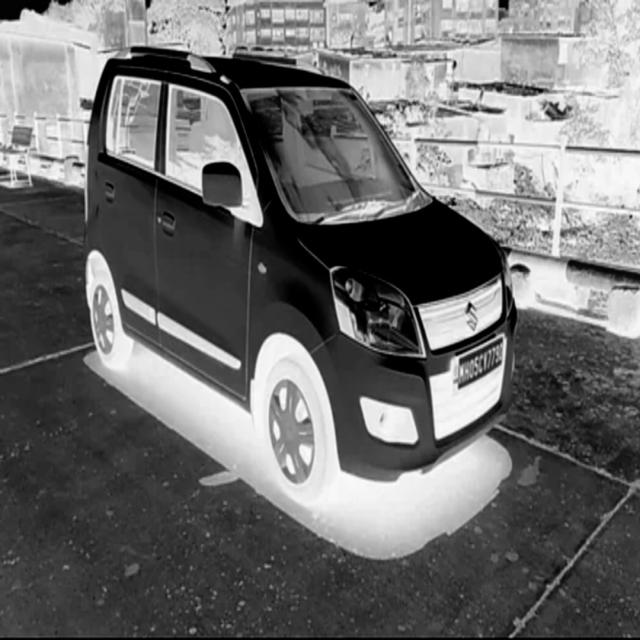0: (469, 359, 475, 379), (499, 343, 503, 360)
5: (474, 356, 479, 376)
7: (492, 347, 496, 366), (488, 349, 491, 369)
9: (495, 345, 499, 363)
C: (478, 354, 483, 375)
H: (464, 361, 469, 382)
IND: (451, 362, 461, 386)
Indian_registered: (456, 339, 502, 388)
M: (458, 364, 463, 384)
W: (482, 350, 488, 372)
